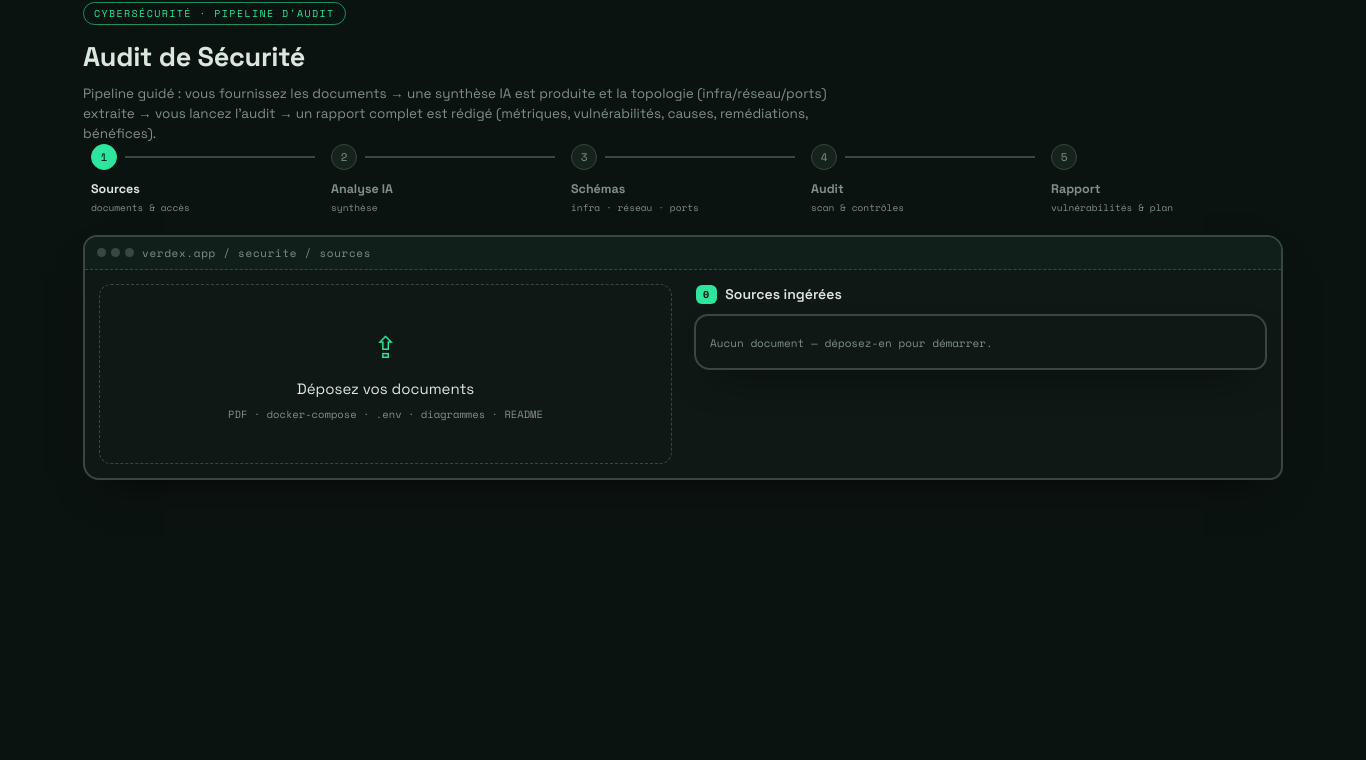
Scenario: CyberView › affiche le rapport et ses vulnérabilités
Click the button "5 Rapport vulnérabilités & plan": (1163, 179) top-left (1043, 144), bottom-right (1283, 215)
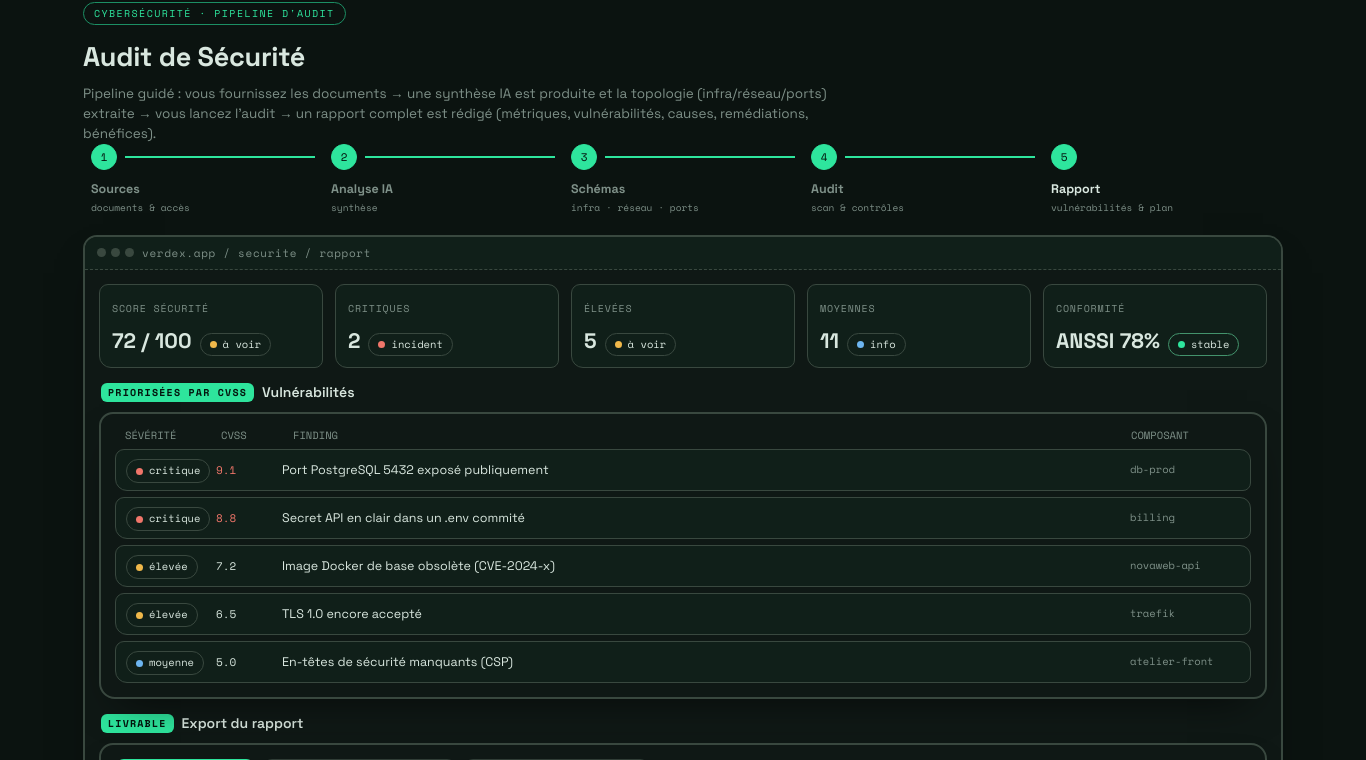
expect the text "Score sécurité" is shown: met, box top-left (112, 301), bottom-right (209, 316)
expect the text "Port PostgreSQL 5432 exposé publiquement" is shown: met, box top-left (282, 462), bottom-right (549, 478)
